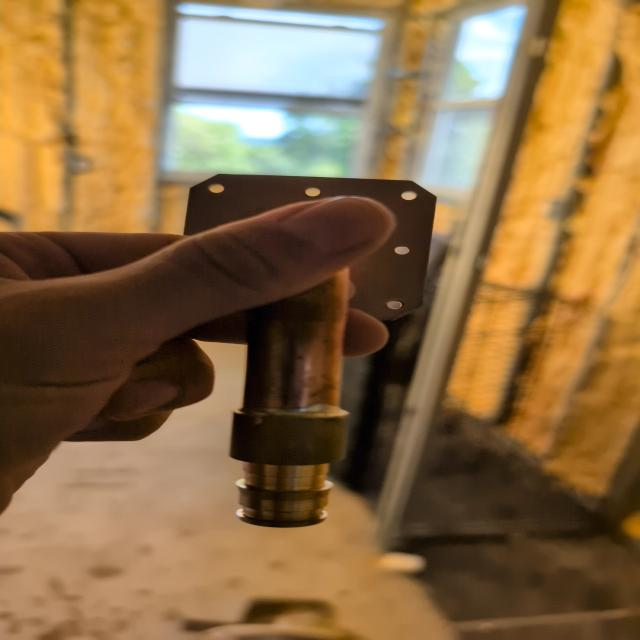wall_flange: (164, 166, 486, 552)
